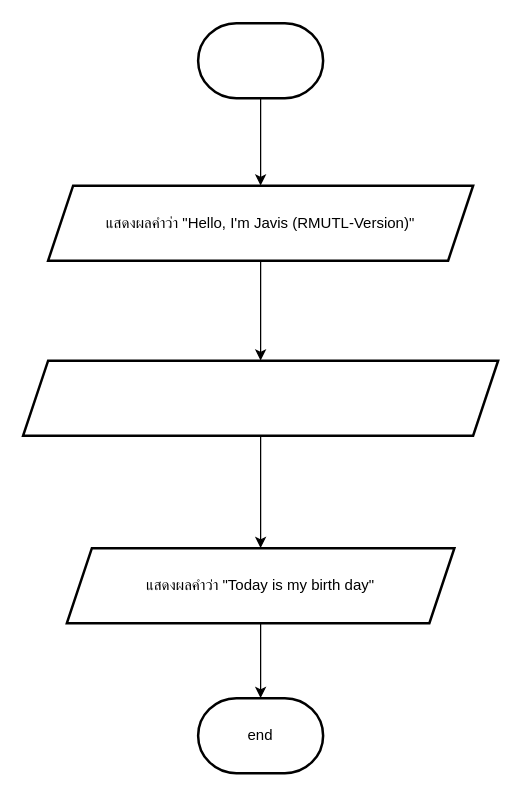
This 520x795 diagram has some shape labels left out. The centre of each missing label's shape, as x and y in pixels:
start: (260,60)
แสดงผลคำว่า "This is my first time to coding with C language": (260,397)
